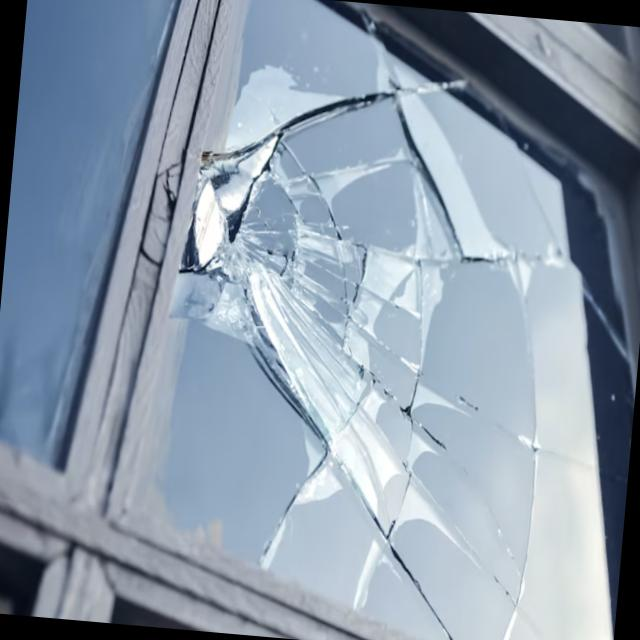PecahanKaca: (137, 51, 640, 640)
